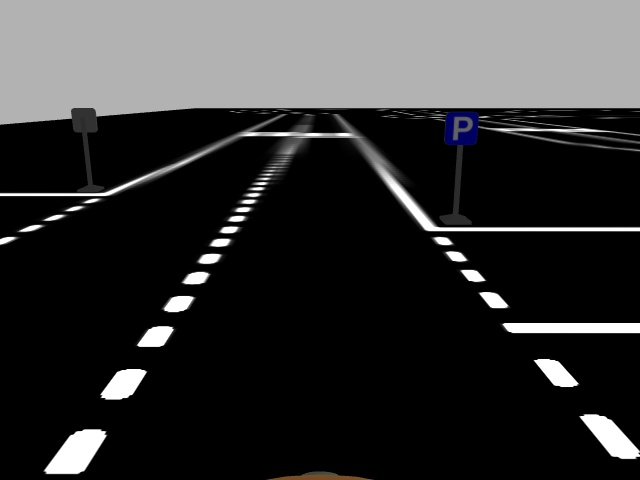parking: (444, 110, 479, 144)
